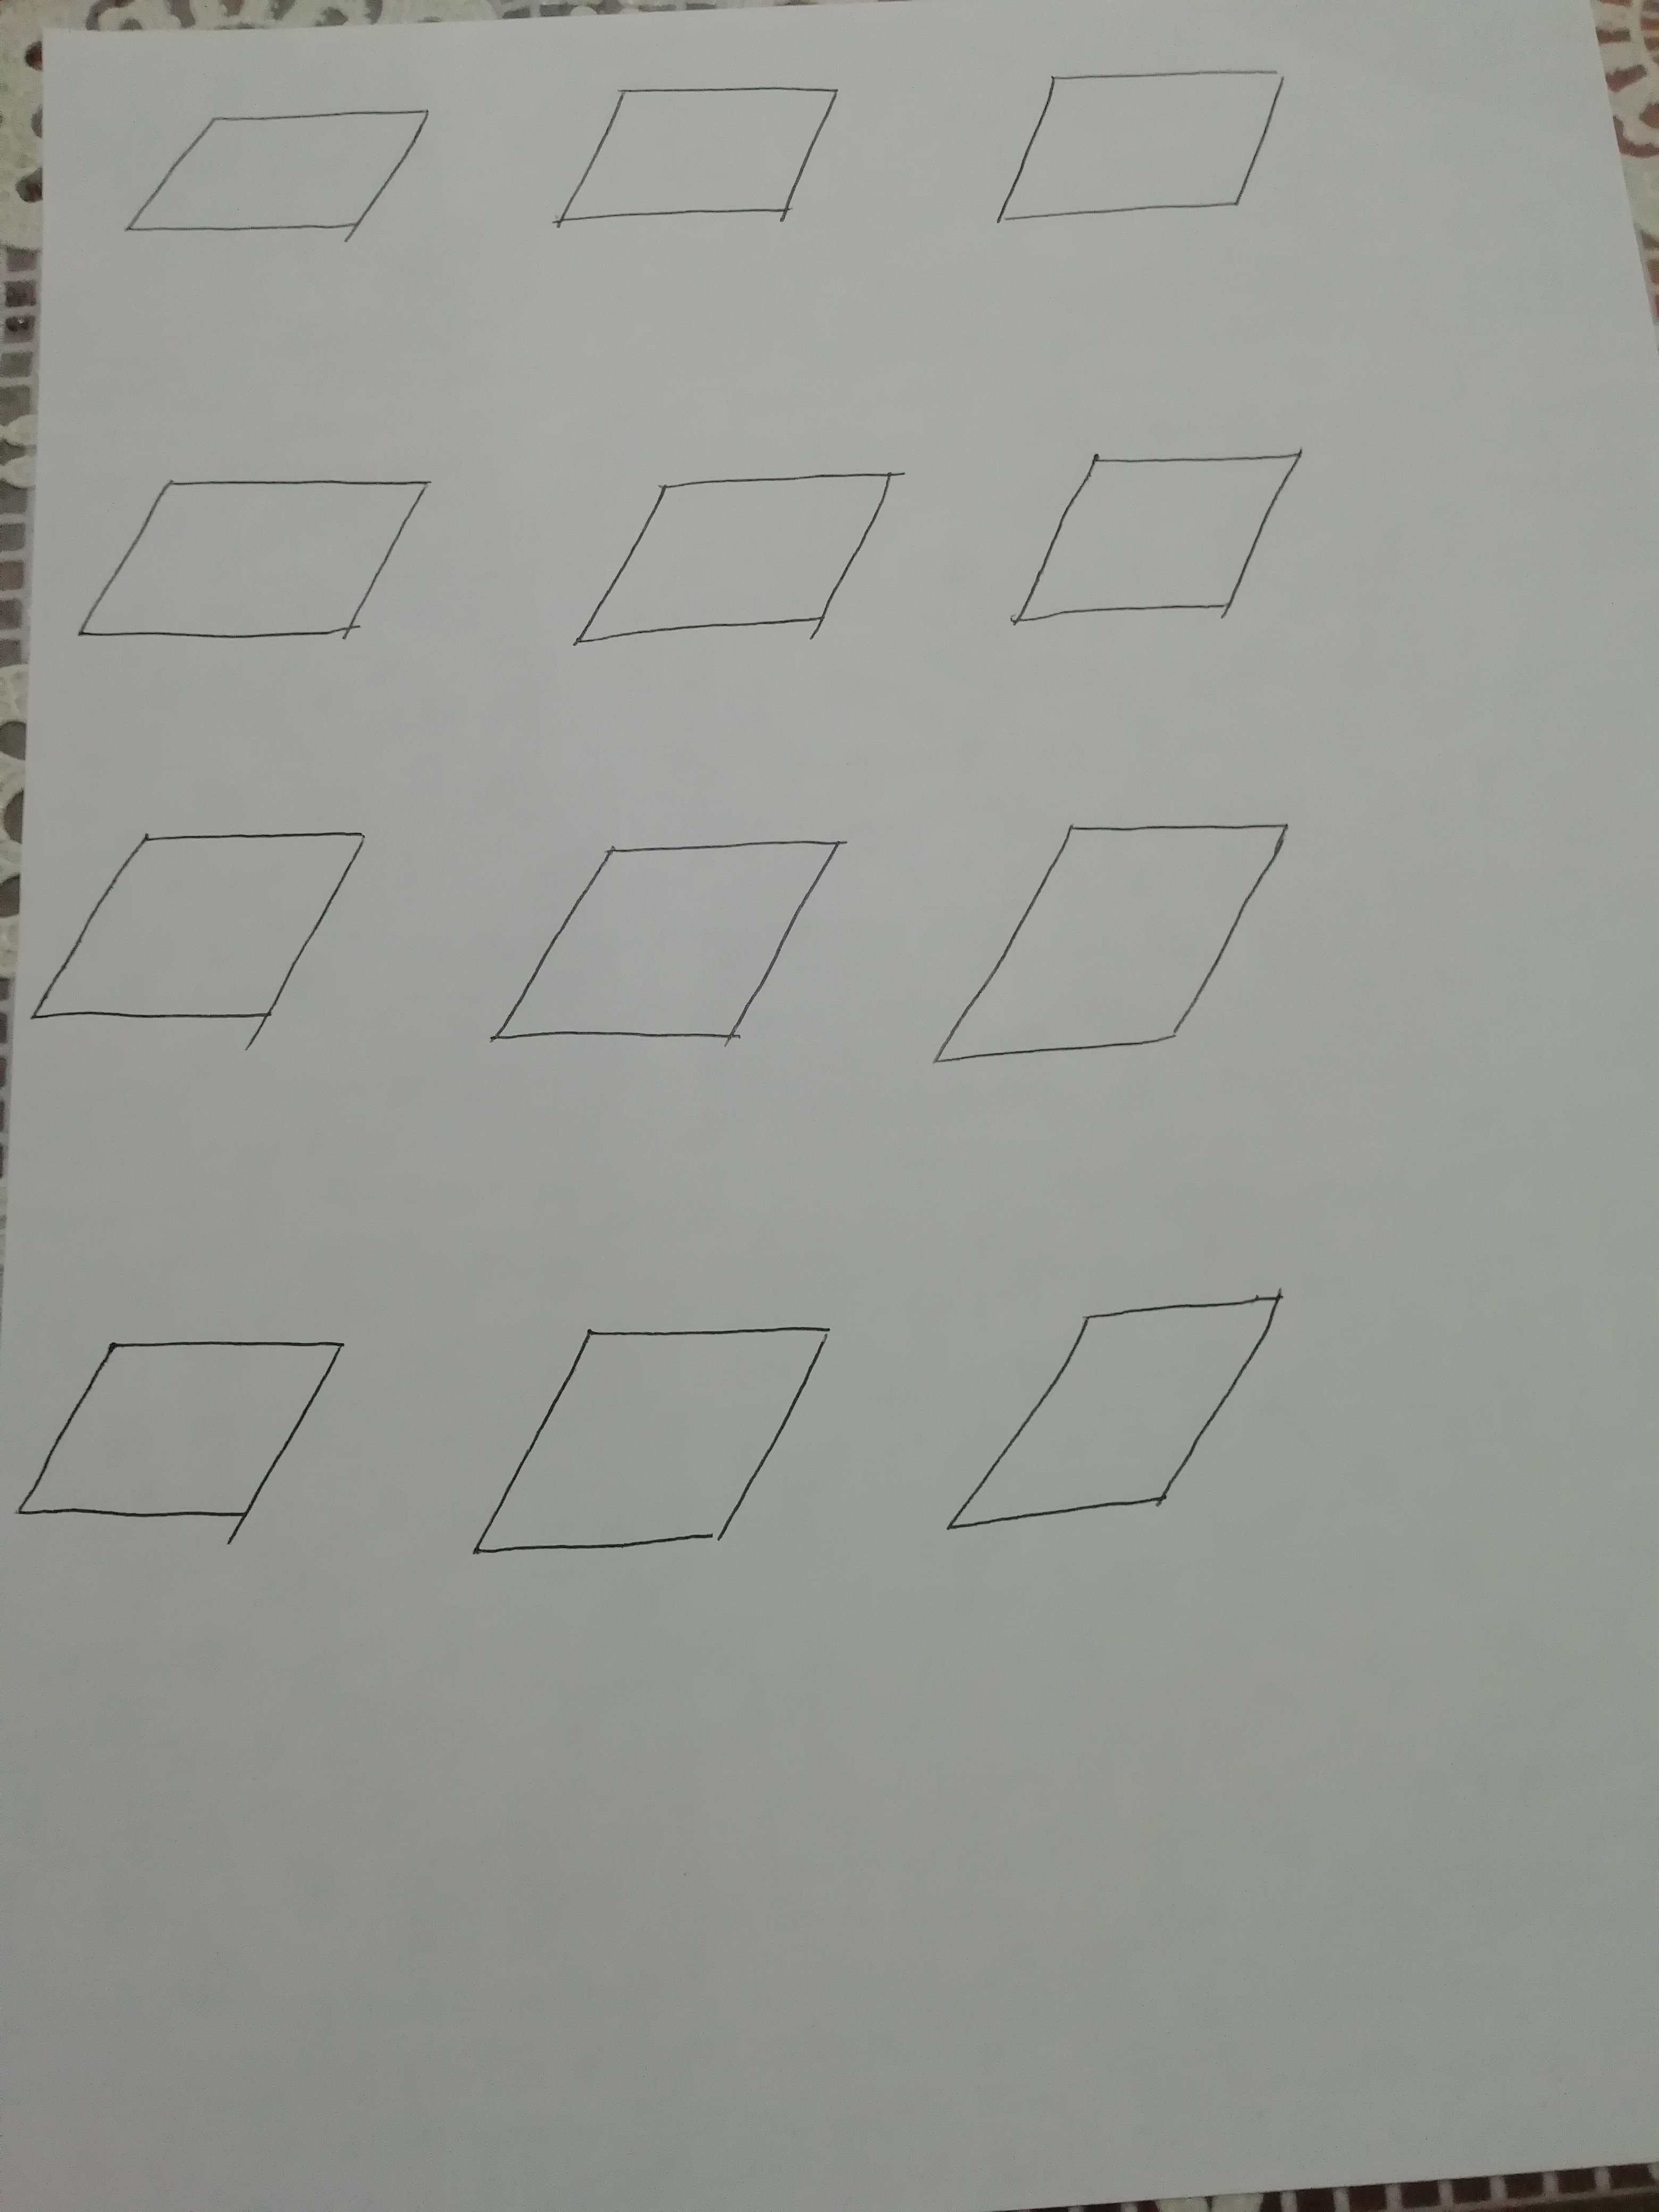scan: (913, 777, 1328, 1123), (448, 1268, 852, 1620), (469, 798, 866, 1106), (924, 1277, 1316, 1571), (23, 791, 385, 1089), (5, 1301, 369, 1595), (44, 435, 455, 685), (990, 421, 1380, 667), (565, 439, 927, 688), (84, 71, 455, 284), (509, 64, 877, 268), (976, 56, 1305, 251)
